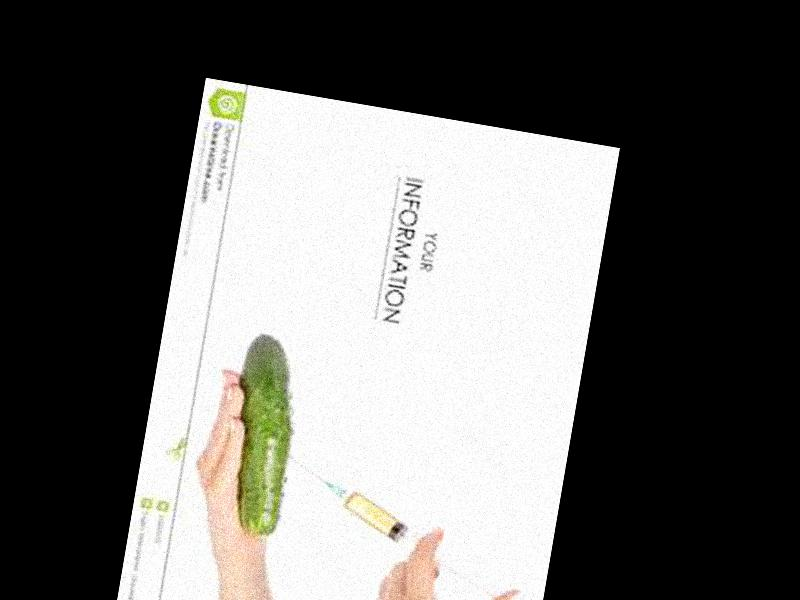Cucumber: (216, 332, 308, 538)
